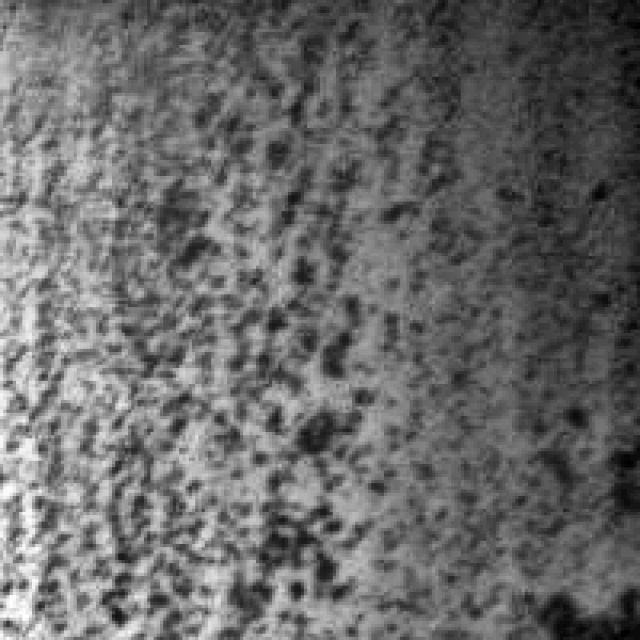Rolled_in_Scale: (0, 48, 490, 630)
